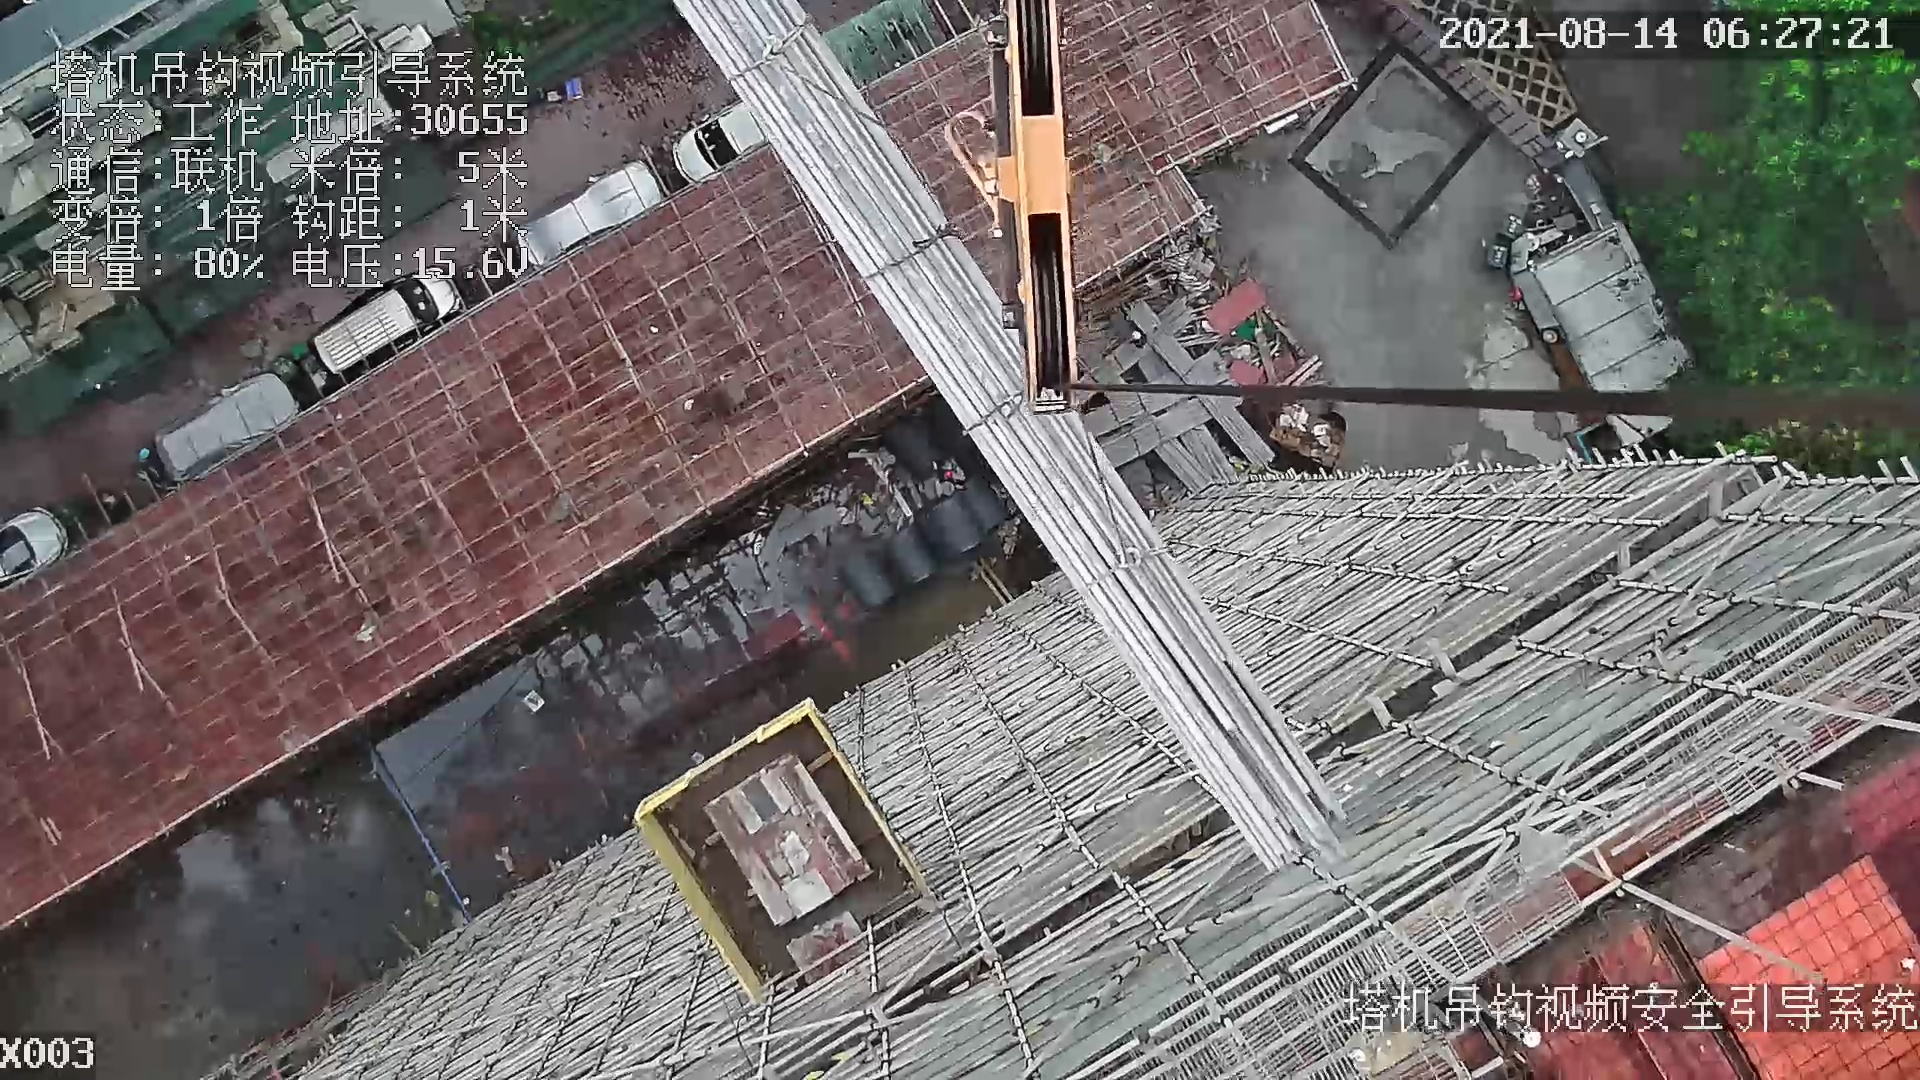hook: (986, 1, 1081, 419)
